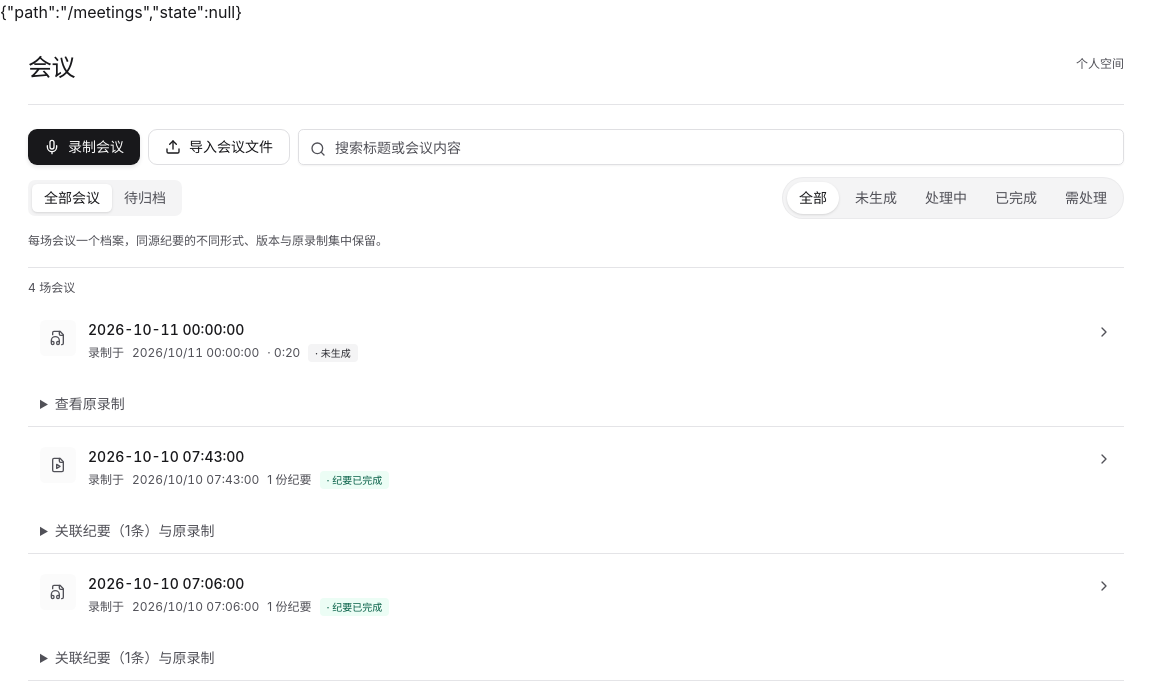
it: keeps an optional title and source choice while cancelling setup without beginning capture
Step 1. Click the button "录制会议" → (84, 147), box left=28, top=129, right=140, bottom=165
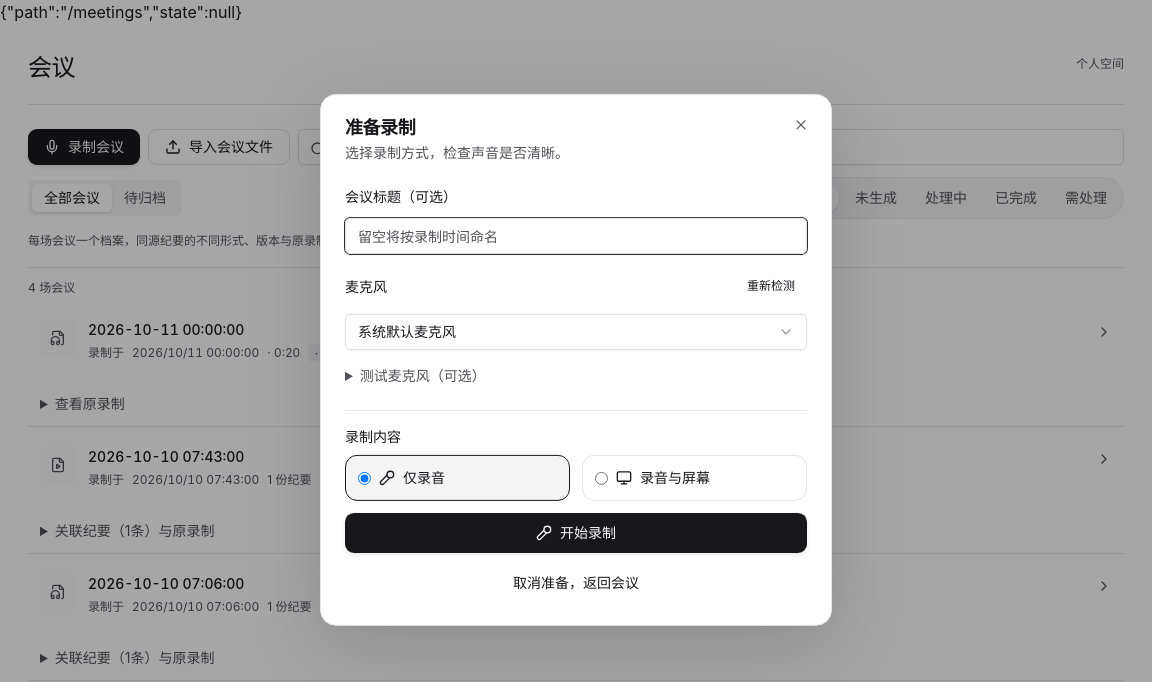
Expected: the radio button labelled "仅录音" is checked, left=358, top=472, right=371, bottom=485
Step 2. Type "设计审查" into the field labelled "会议标题（可选）" → (576, 236), box left=345, top=218, right=807, bottom=254
Step 3. Click the radio button labelled "录音与屏幕" → (602, 478), box left=595, top=472, right=608, bottom=485
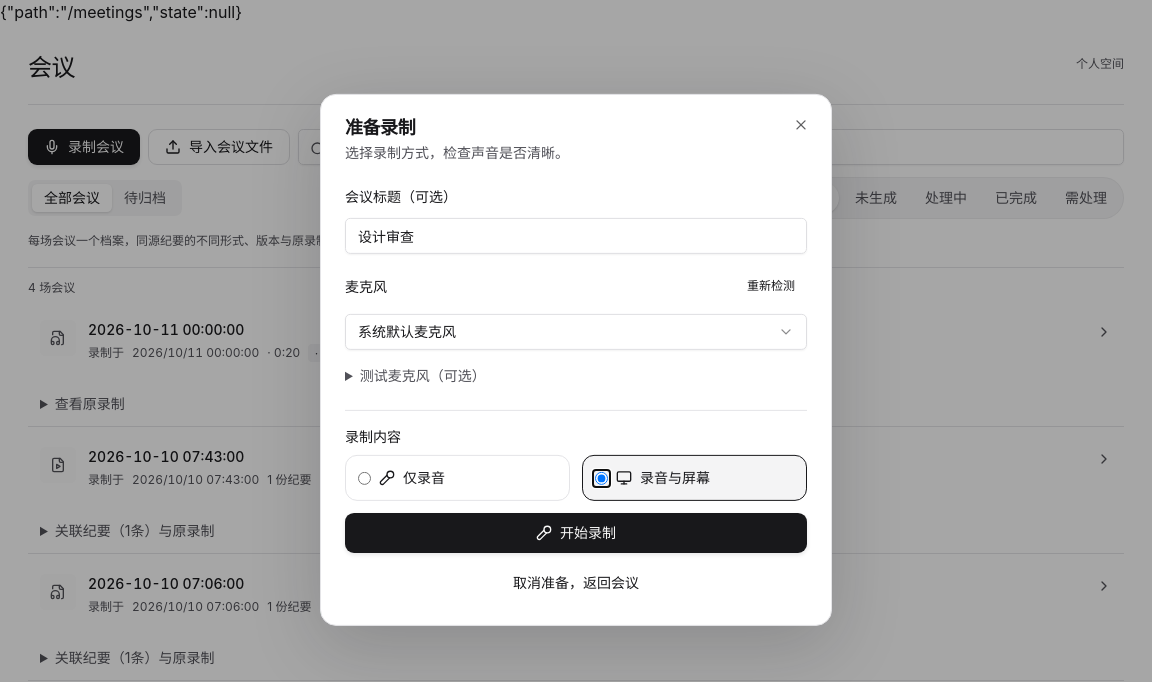
Expected: the button "开始录制" is enabled, left=345, top=513, right=807, bottom=553
Step 4. Click the button "取消准备，返回会议" → (576, 583), box left=345, top=565, right=807, bottom=601
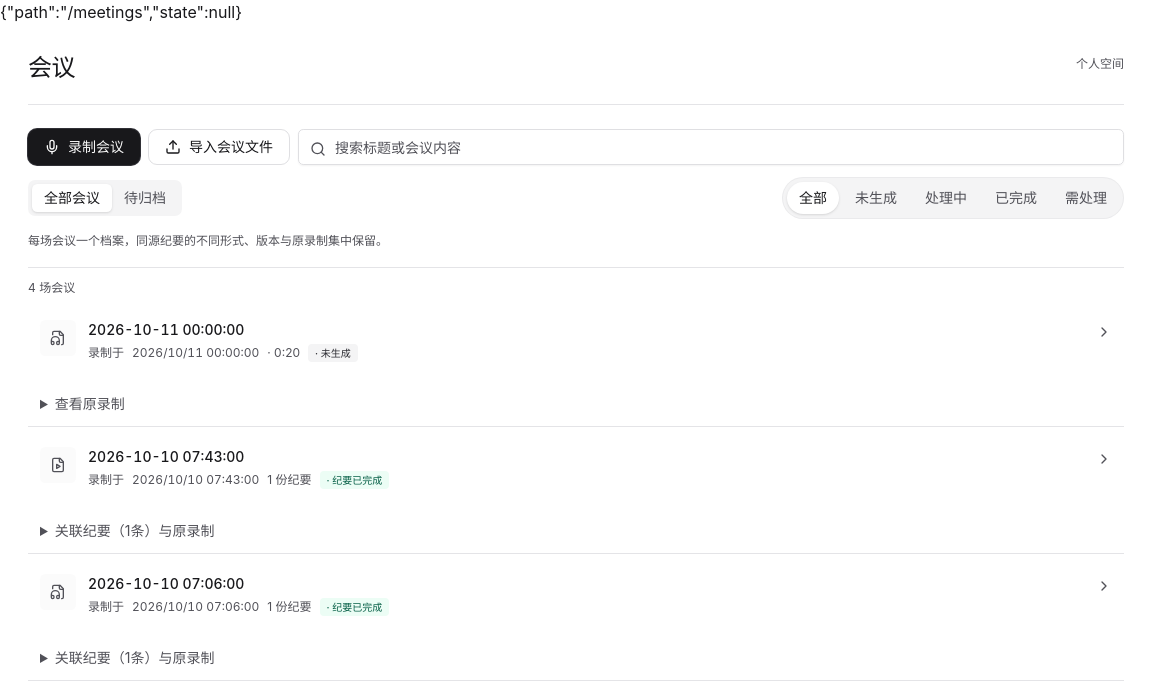
Expected: the dialog is gone
Step 5. Click the button "录制会议" → (84, 147), box left=28, top=129, right=140, bottom=165
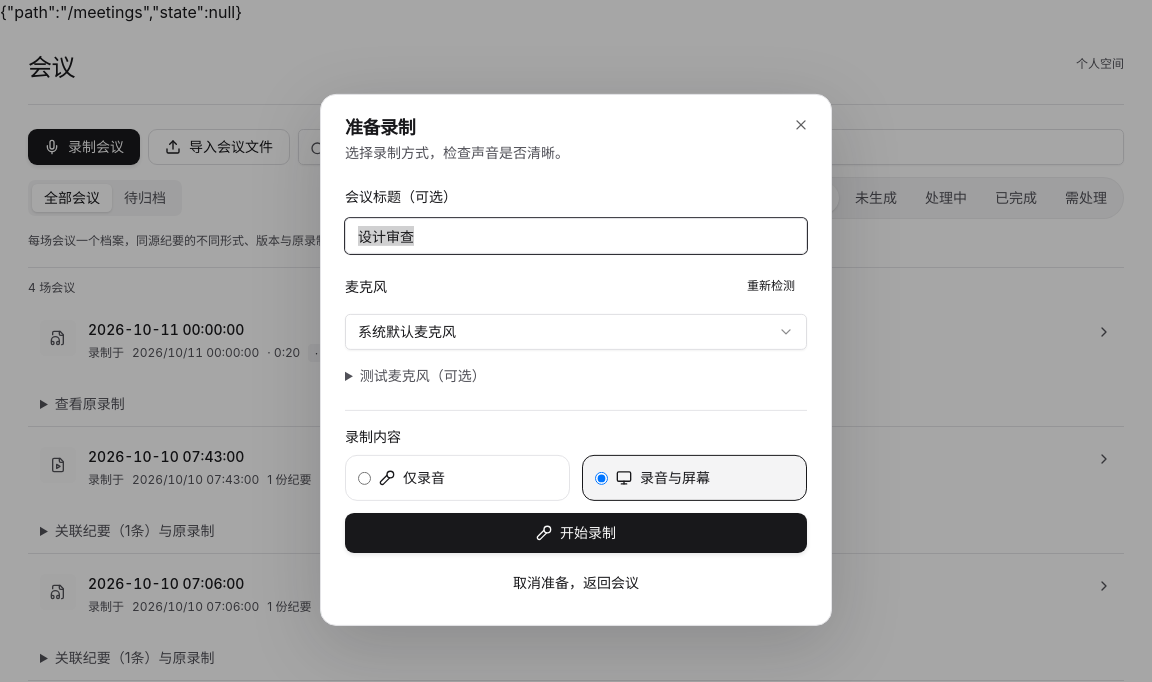
Expected: the field labelled "会议标题（可选）" holds "设计审查", left=345, top=218, right=807, bottom=254
Expected: the radio button labelled "录音与屏幕" is checked, left=595, top=472, right=608, bottom=485
Step 6. Click the radio button labelled "仅录音" → (364, 478), box left=358, top=472, right=371, bottom=485
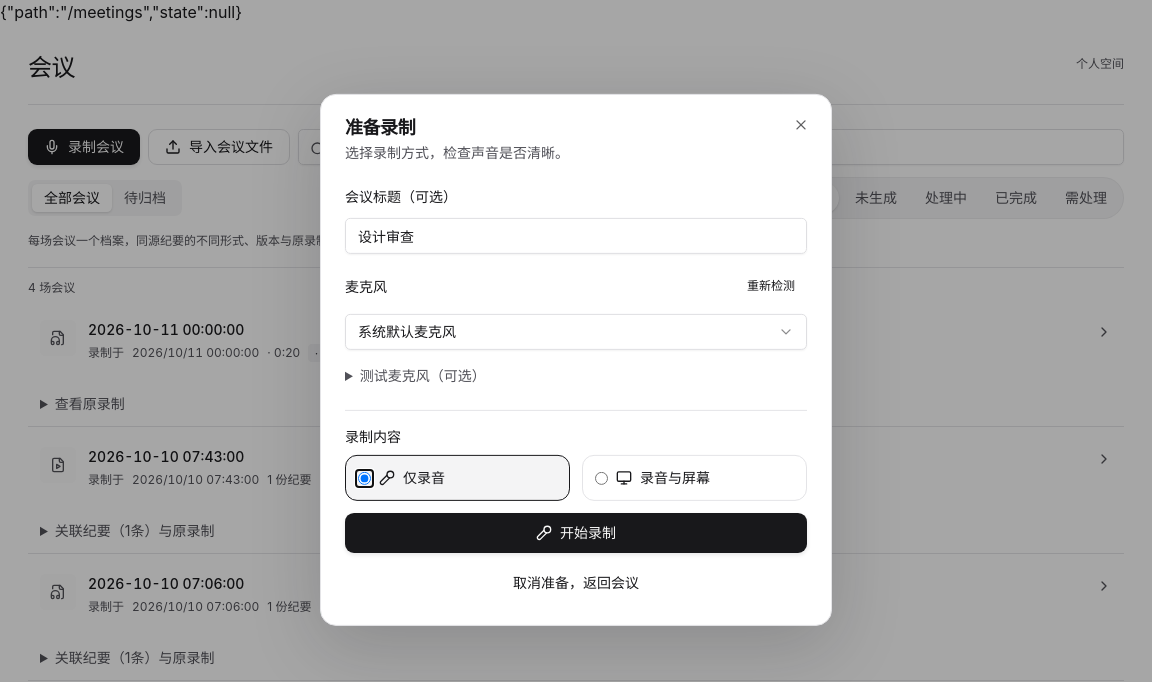
Step 7. Click the button named "关闭准备录制" → (801, 125), box left=783, top=107, right=819, bottom=143
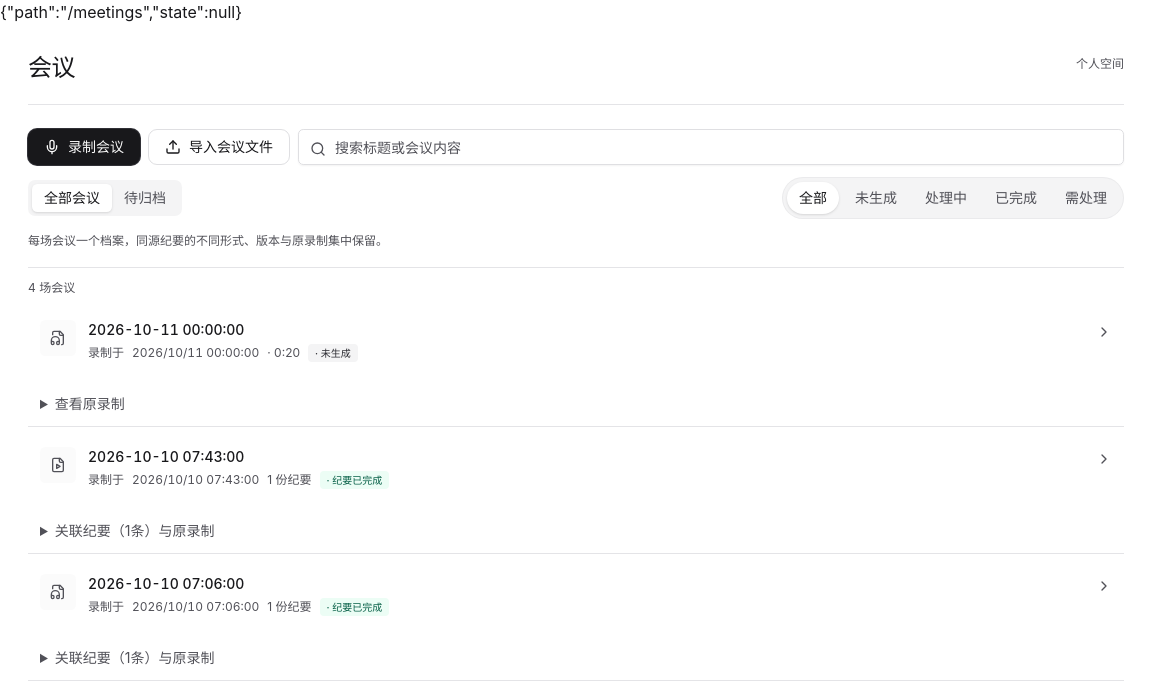
Expected: the dialog is gone
